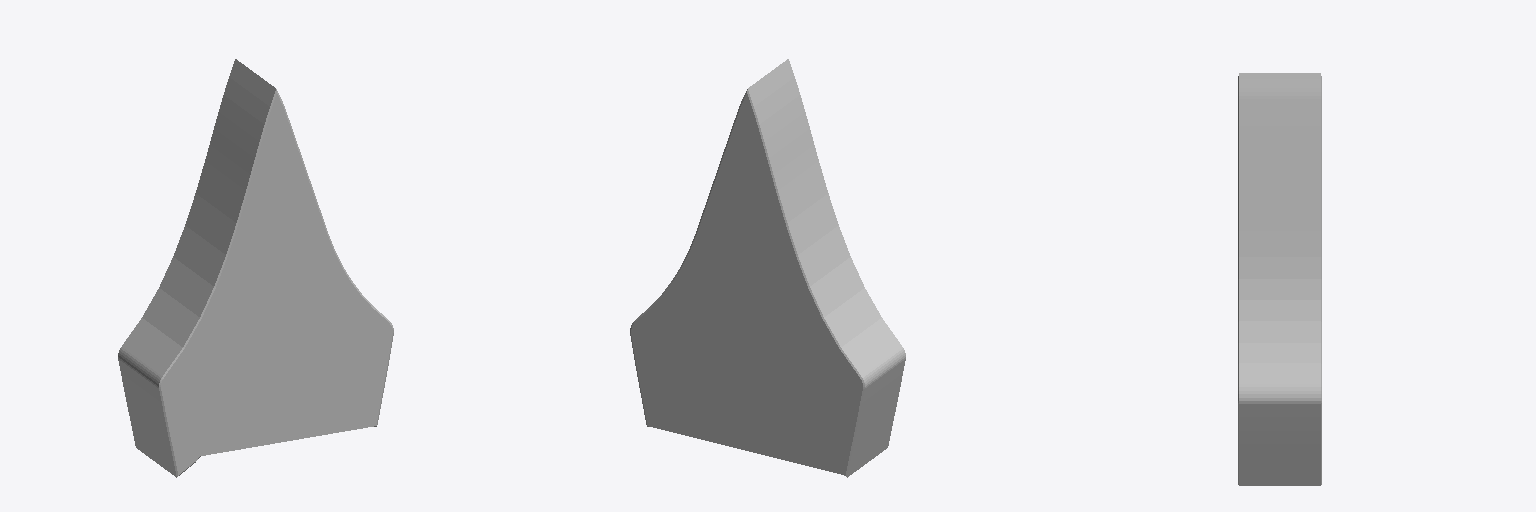
The picture shows the model from 3 angles: view 1: azimuth 30°, elevation 25°; view 2: azimuth 150°, elevation 25°; view 3: azimuth 270°, elevation 25°; orthographic projection.
Parts seen in each view (by area): view 1: 8_Mesh.002; view 2: 8_Mesh.002; view 3: 8_Mesh.002.
Boxes of the visible parts, x1=… form: 8_Mesh.002: x1=118, y1=59, x2=393, y2=477; 8_Mesh.002: x1=630, y1=59, x2=905, y2=477; 8_Mesh.002: x1=1238, y1=73, x2=1321, y2=485.
Size of the model in its own units: 2.32 by 3.45 by 0.7176.